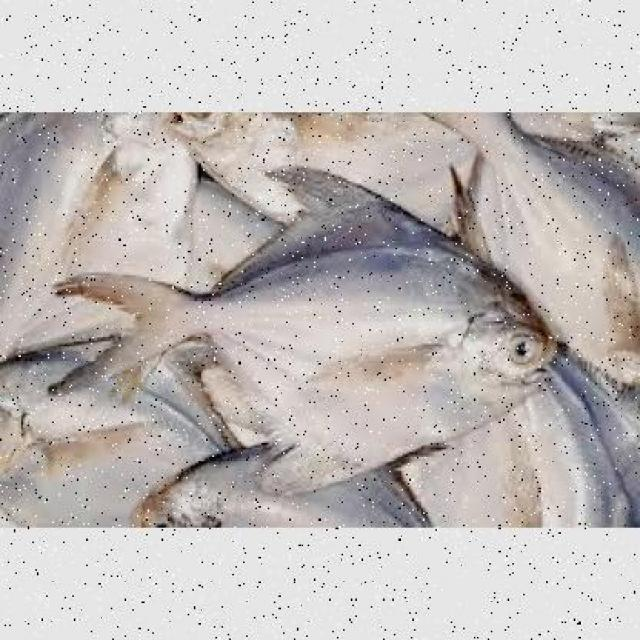ikan-pacu: (71, 183, 554, 462)
